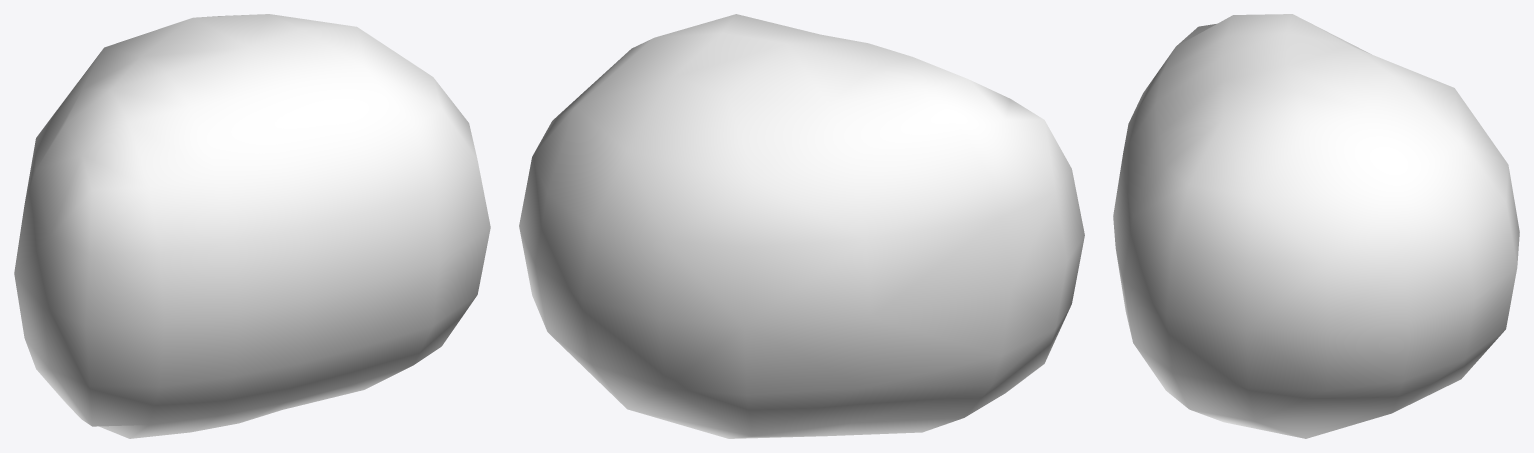
Rendered from Head2.fbx.
3 renders of one model, left to right at view 1: azimuth 30°, elevation 25°; view 2: azimuth 150°, elevation 25°; view 3: azimuth 270°, elevation 25°, orthographic. The views are drawn at different scales.
Parts seen in each view (by area): view 1: Mesh_0004.rip.007_Mesh_0004.rip_mesh0000.008; view 2: Mesh_0004.rip.007_Mesh_0004.rip_mesh0000.008; view 3: Mesh_0004.rip.007_Mesh_0004.rip_mesh0000.008.
Part boxes in pixels (x1,y1,x2,y2): Mesh_0004.rip.007_Mesh_0004.rip_mesh0000.008: (14, 14, 490, 438); Mesh_0004.rip.007_Mesh_0004.rip_mesh0000.008: (519, 14, 1084, 438); Mesh_0004.rip.007_Mesh_0004.rip_mesh0000.008: (1113, 14, 1519, 438).
Bounding box in the file's own units: 7.1 × 5.26 × 5.81.
Materials: 1 (1 with a texture image).
